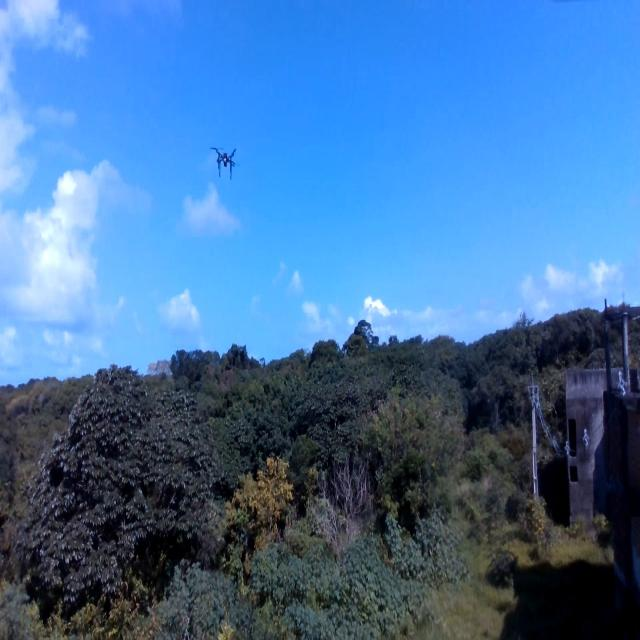-uav-: (213, 135, 240, 181)
